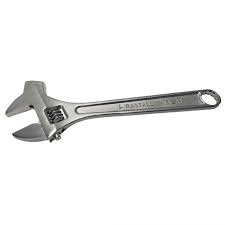wrench: (5, 66, 225, 148)
